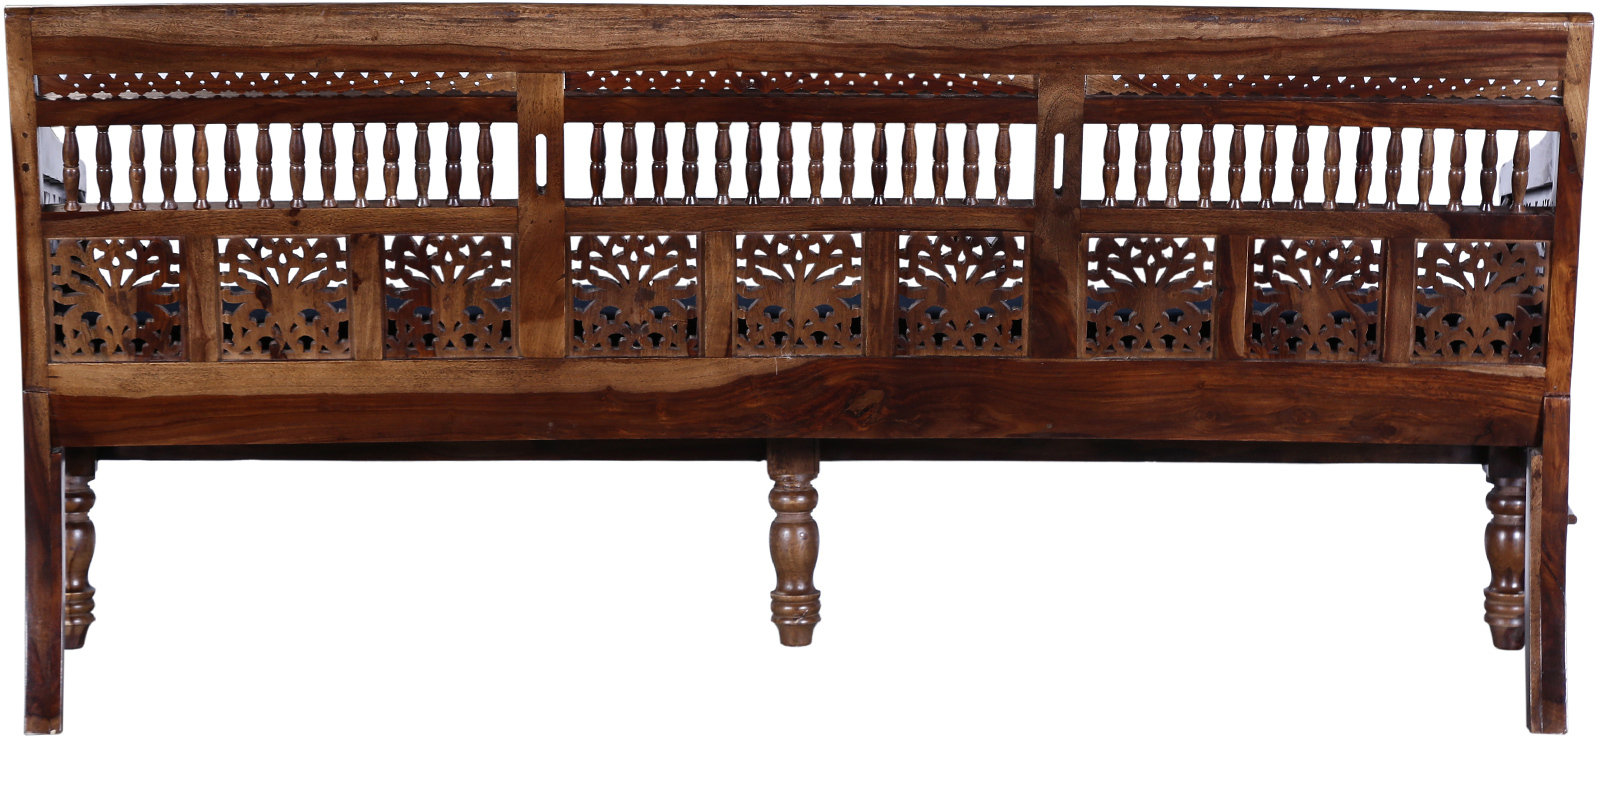Maurya Handcrafted Three Seater Sofa in Provincial Teak Finish by Mudramark: (5, 5, 1595, 732)
